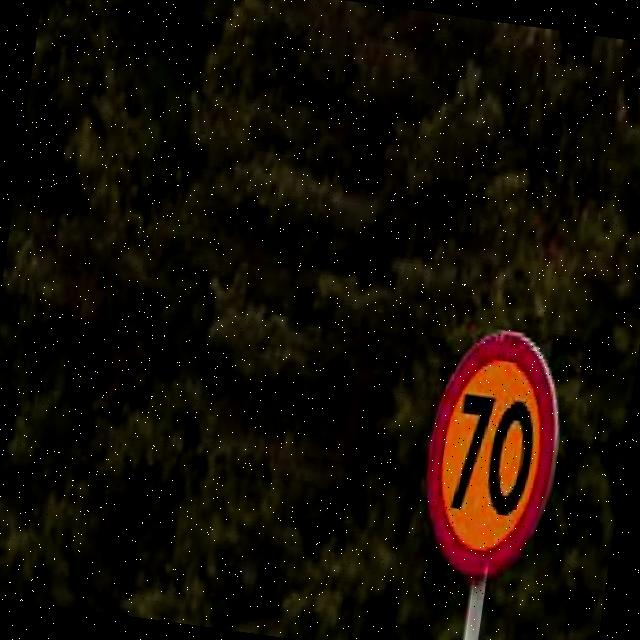Ograniczenie predkosci do 70: (410, 307, 580, 582)
